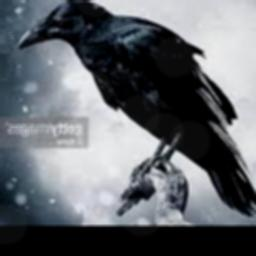Crow: (19, 0, 256, 216)
